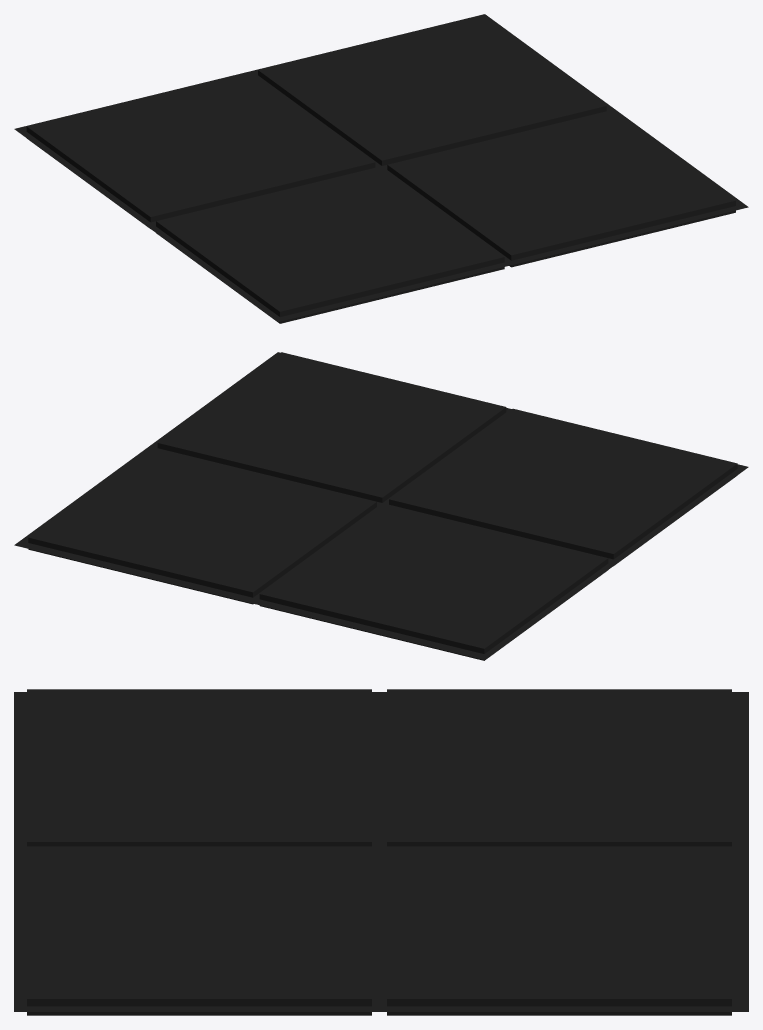
File: FloorTiles_005plane.fbx
3 views of the same model, one above another, from view 1: azimuth 30°, elevation 25°; view 2: azimuth 150°, elevation 25°; view 3: azimuth 270°, elevation 25° (orthographic). The views are drawn at different scales.
Visible parts, largest first — view 1: Plane.005; view 2: Plane.005; view 3: Plane.005.
Part boxes in pixels (box(x1,y1,x2,y2)): Plane.005: box(14, 14, 748, 323); Plane.005: box(14, 352, 748, 660); Plane.005: box(14, 689, 748, 1015).
Bounding box in the file's own units: 796 × 19.43 × 772.
